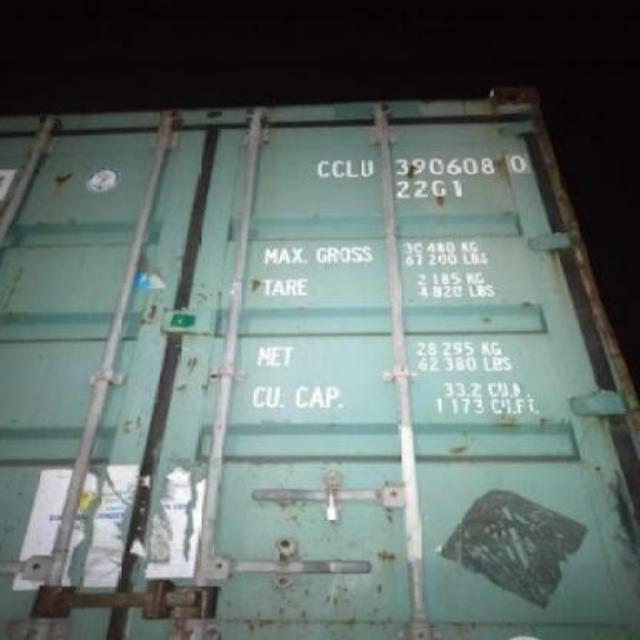0: (506, 152, 530, 174), (460, 156, 480, 177), (428, 157, 446, 177)
3: (394, 157, 412, 177)
6: (446, 154, 462, 176)
8: (480, 156, 496, 174)
9: (412, 157, 428, 177)
C: (316, 155, 332, 181), (332, 158, 346, 180)
L: (346, 158, 359, 178)
U: (358, 158, 378, 180)
